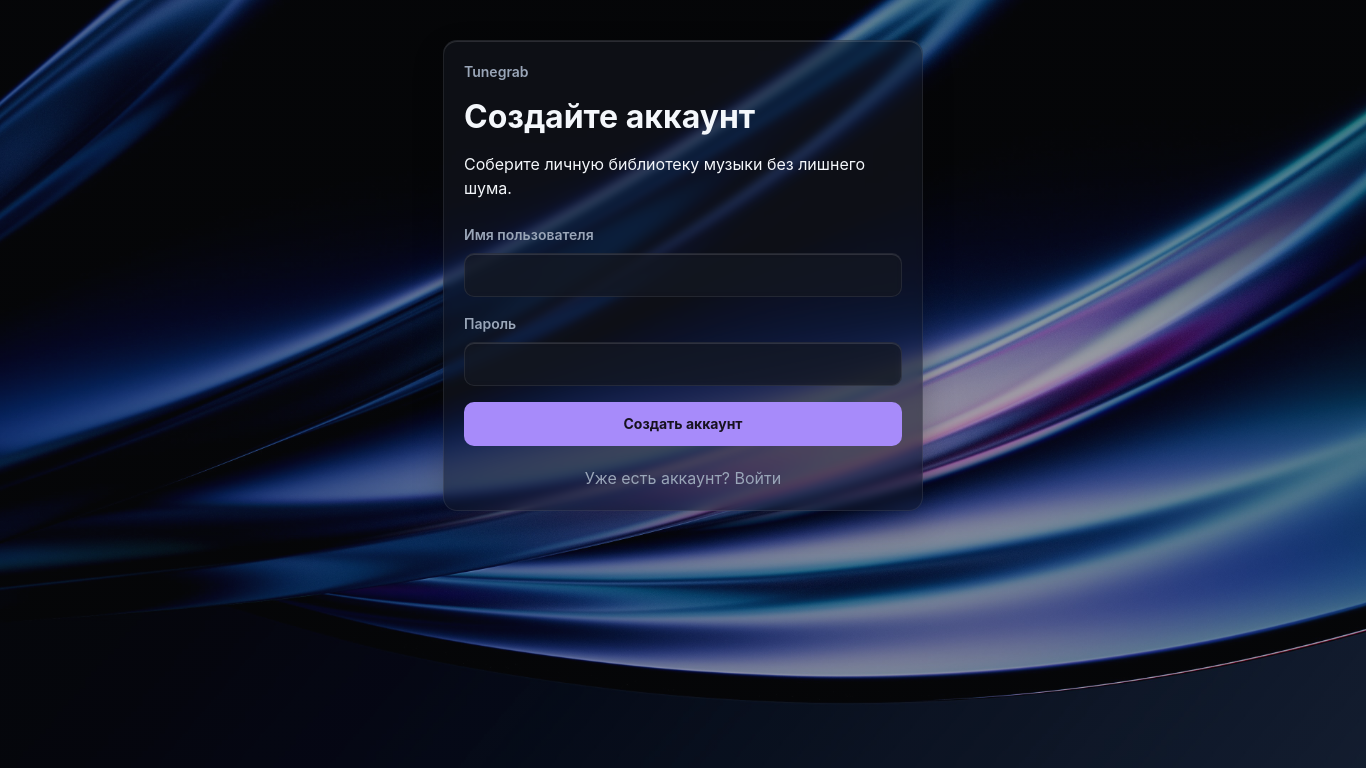
Test: auth views › blocks submission client-side when the password is too short
The image size is (1366, 768).
Type "bob" into the field with id "register-username".
click(683, 275); type("bob")  # box left=464, top=253, right=902, bottom=297
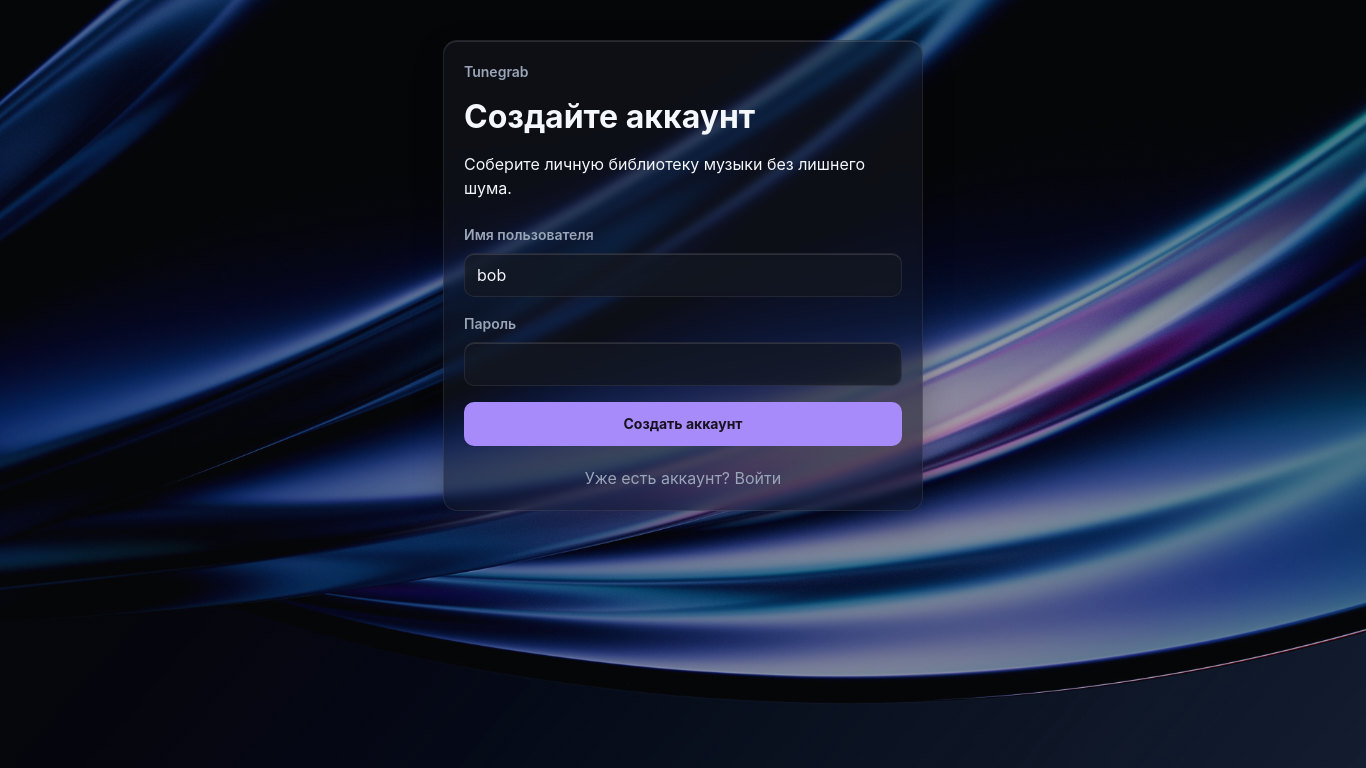
Type "short" into the password field with id "register-password".
click(683, 364); type("short")  # box left=464, top=342, right=902, bottom=386
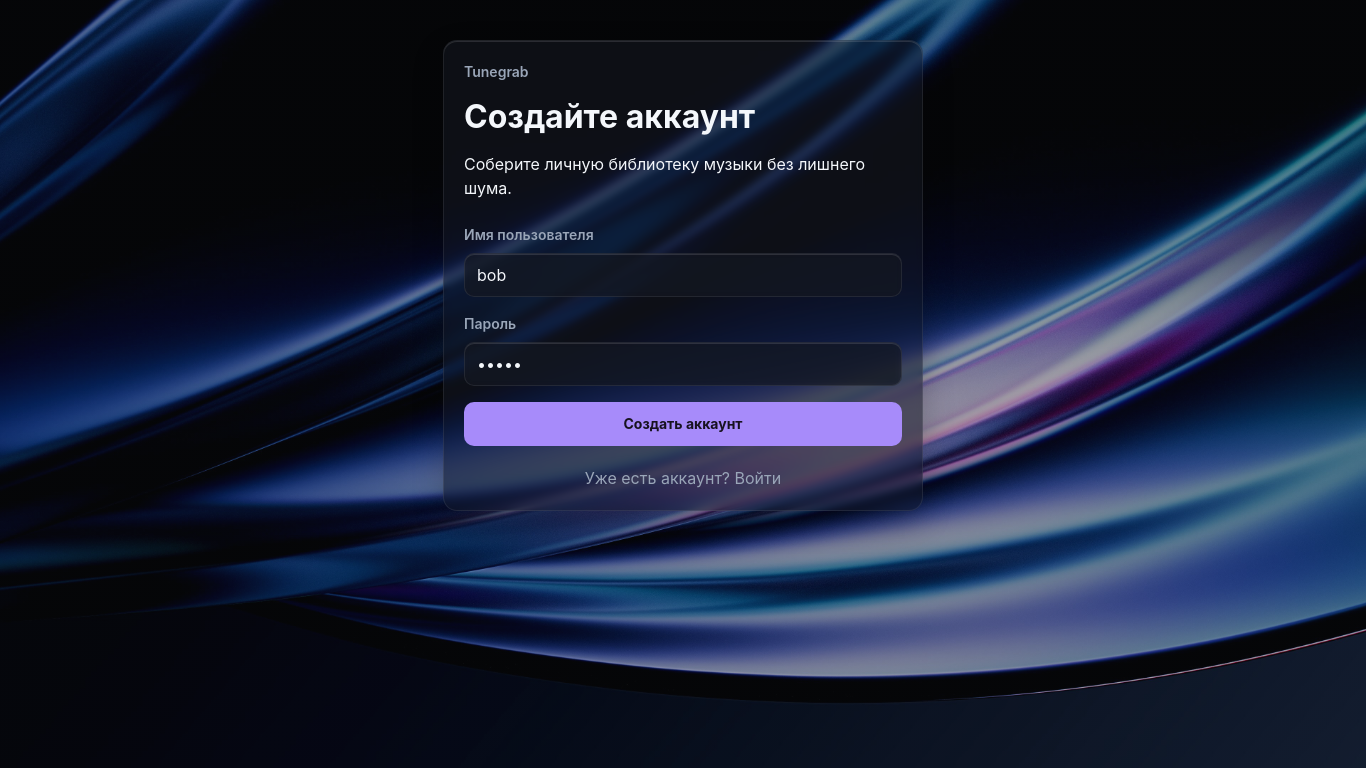
Submit the form, box left=464, top=224, right=902, bottom=446
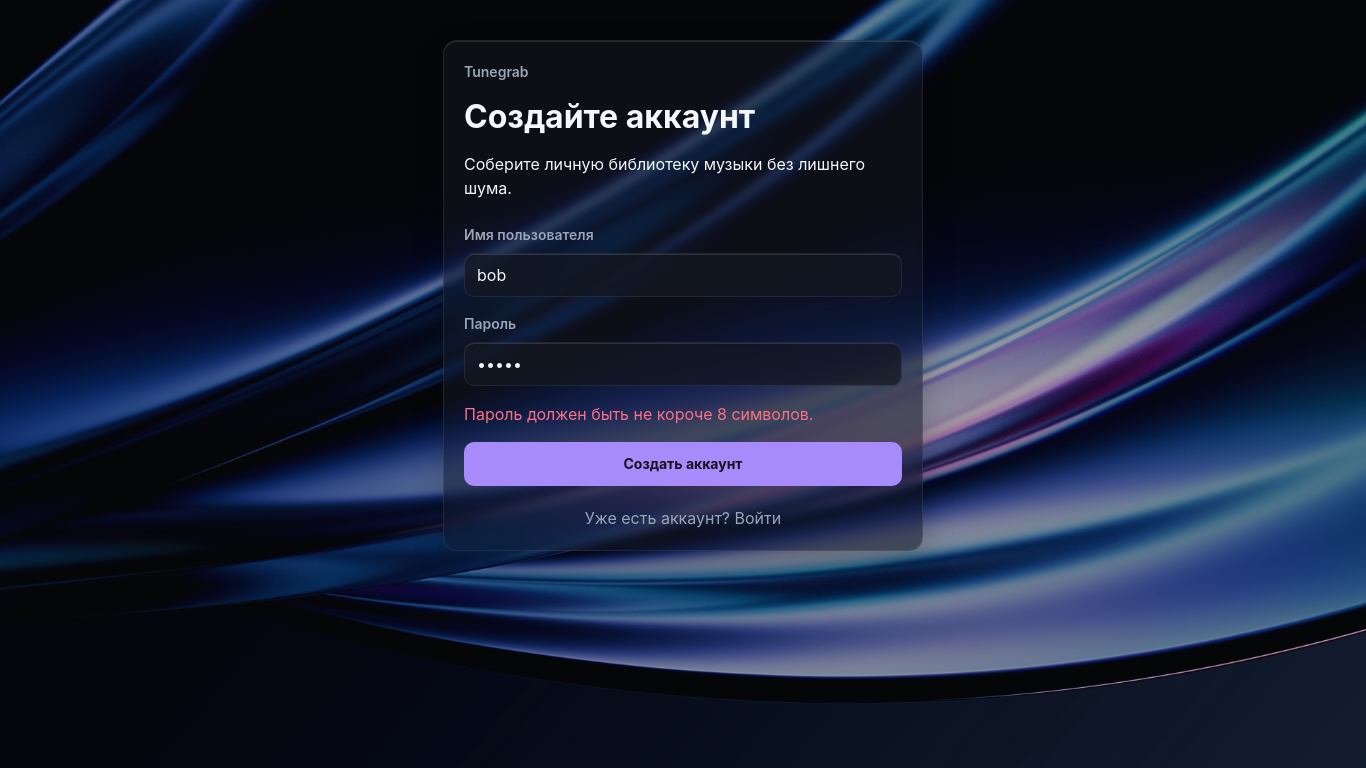
Now the message "Пароль должен быть не короче 8 символов." is shown, box left=464, top=404, right=813, bottom=424
